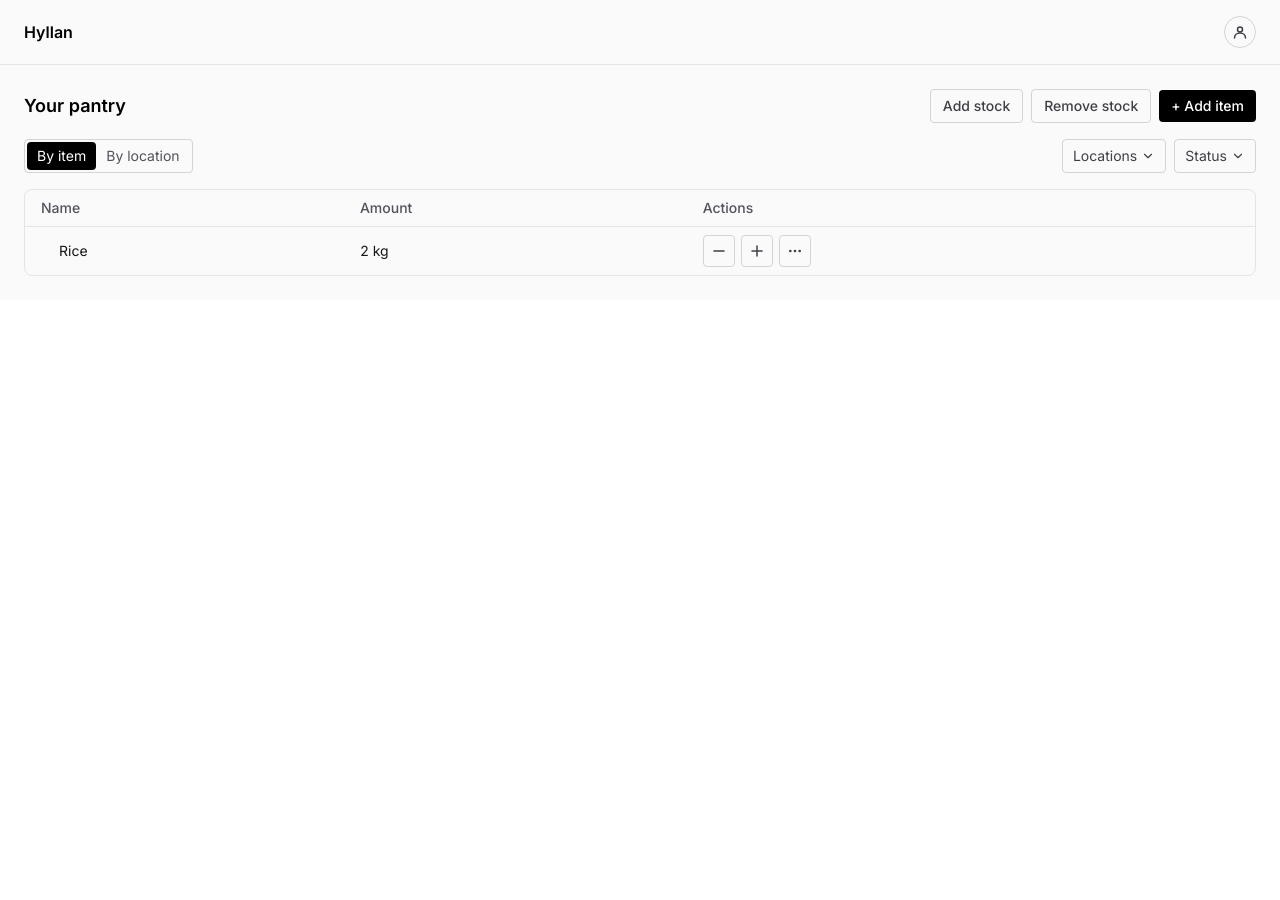
Test case: SignedInHome › opens a confirmation dialog on selecting Delete instead of deleting immediately
Step 1. Click the button named "Actions for Rice" → (795, 251), box [779,235,811,267]
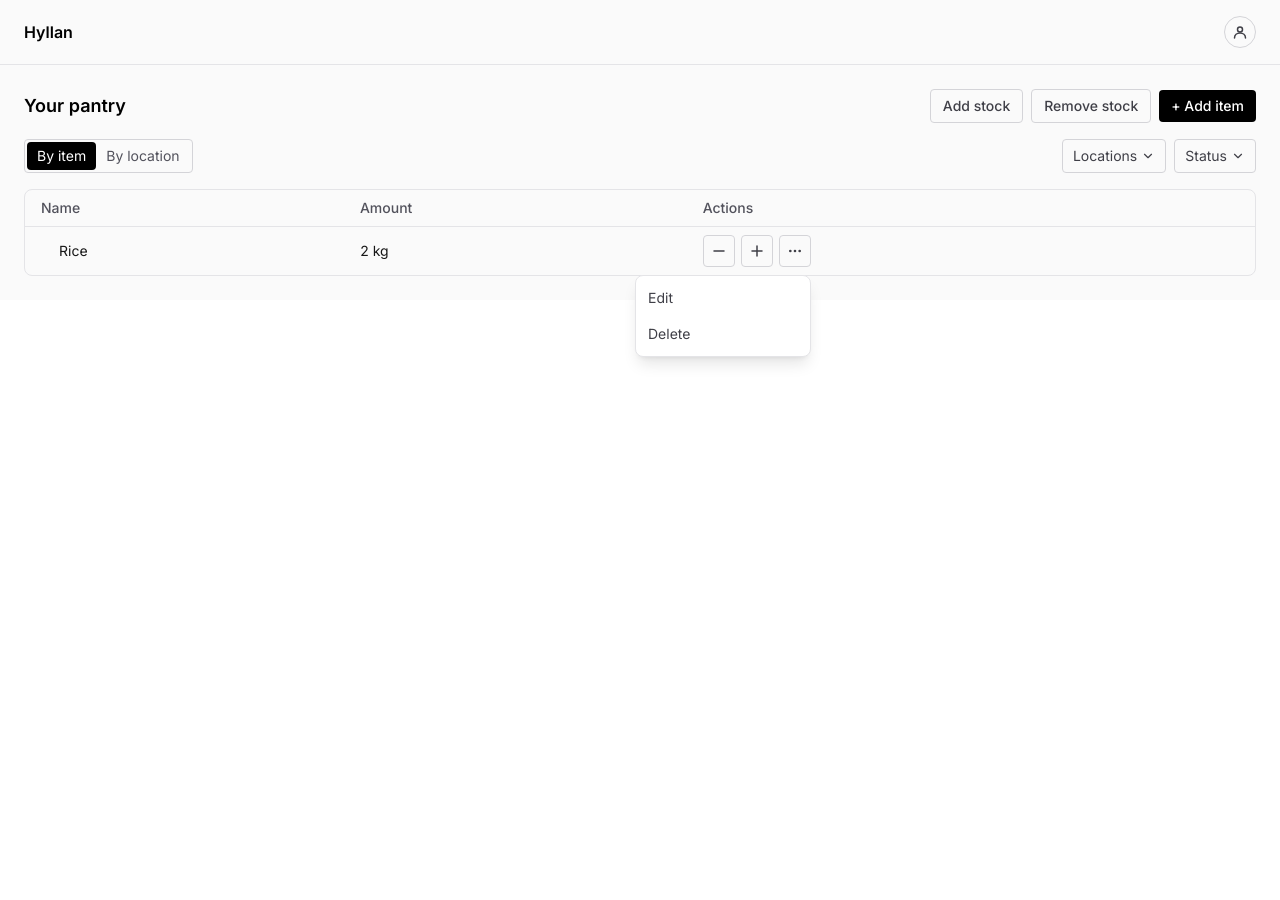
Step 2. Click the menu item "Delete" → (723, 334), box [636,316,810,352]
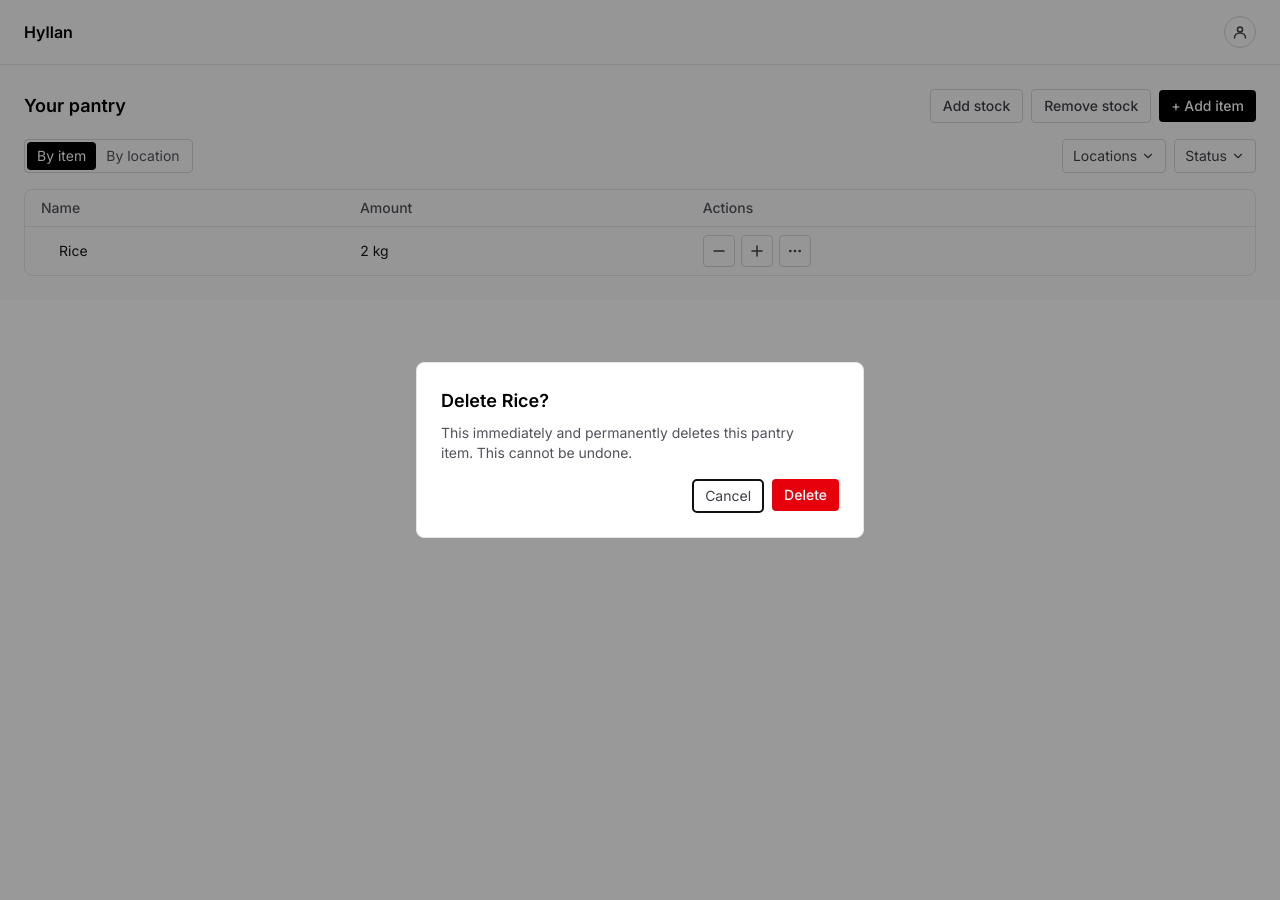
Now the heading "Delete Rice?" is shown, box [441,390,549,411]
Now the text "This immediately and permanently deletes this pantry item. This cannot be undone." is shown, box [441,424,794,461]
